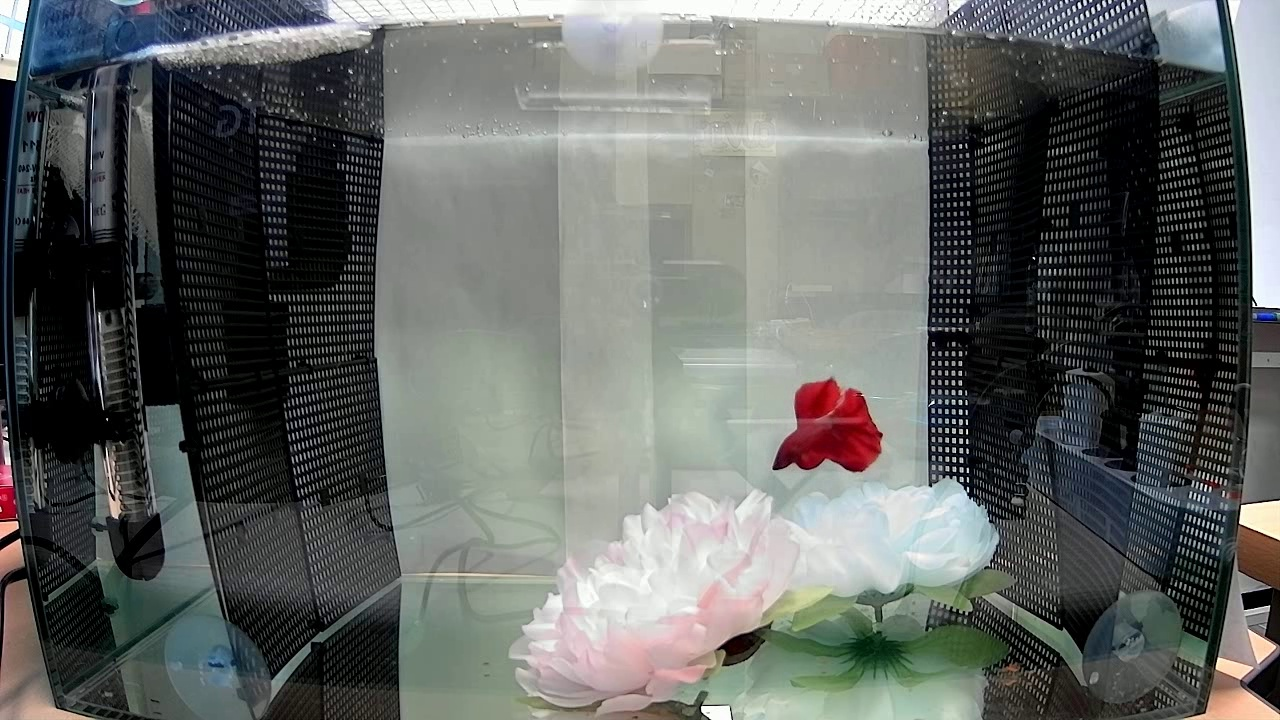fish: (769, 380, 884, 480)
